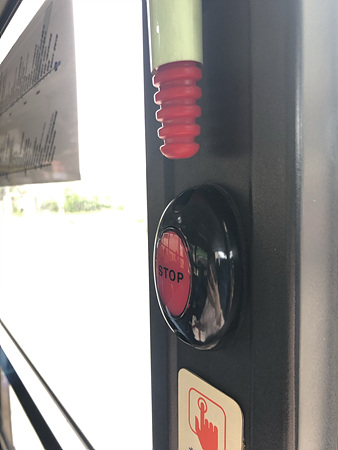bell: (152, 184, 245, 351)
